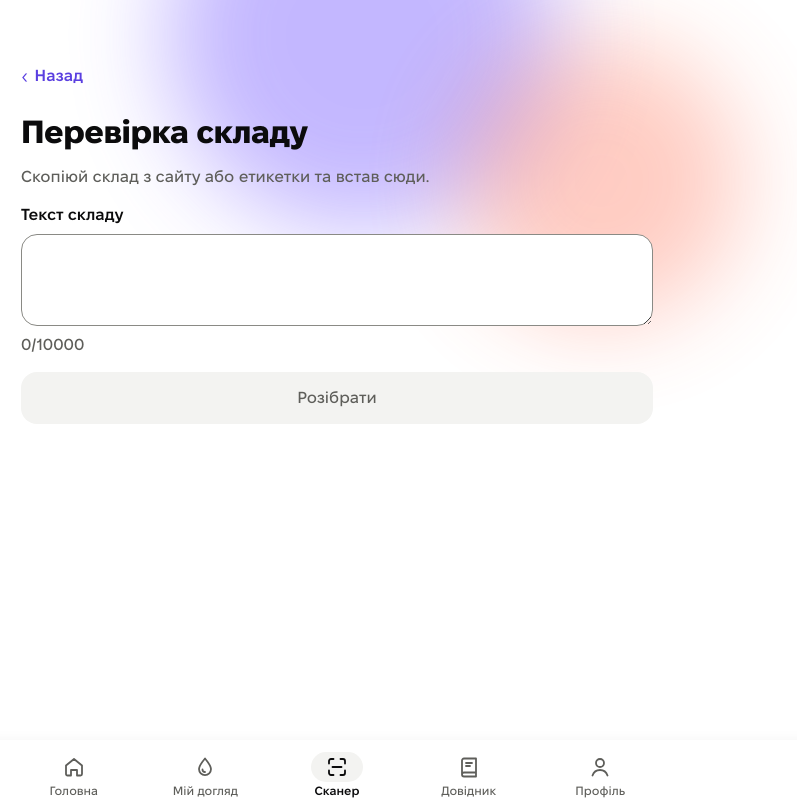
Test: from the reading to the check › a pasted text has no brand field, no notice about a photo and no tick
The image size is (797, 810).
Type "Aqua, Glycerin" into the text box labelled "Текст складу" at (337, 280), box [21, 234, 653, 326]
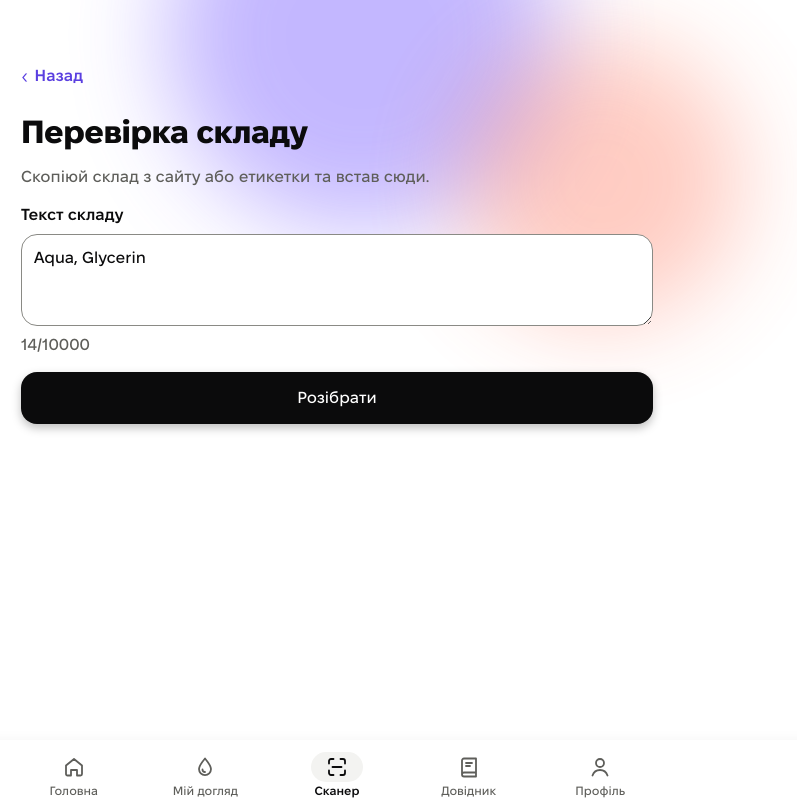
Click the button "Розібрати" at (337, 398), box [21, 372, 653, 424]
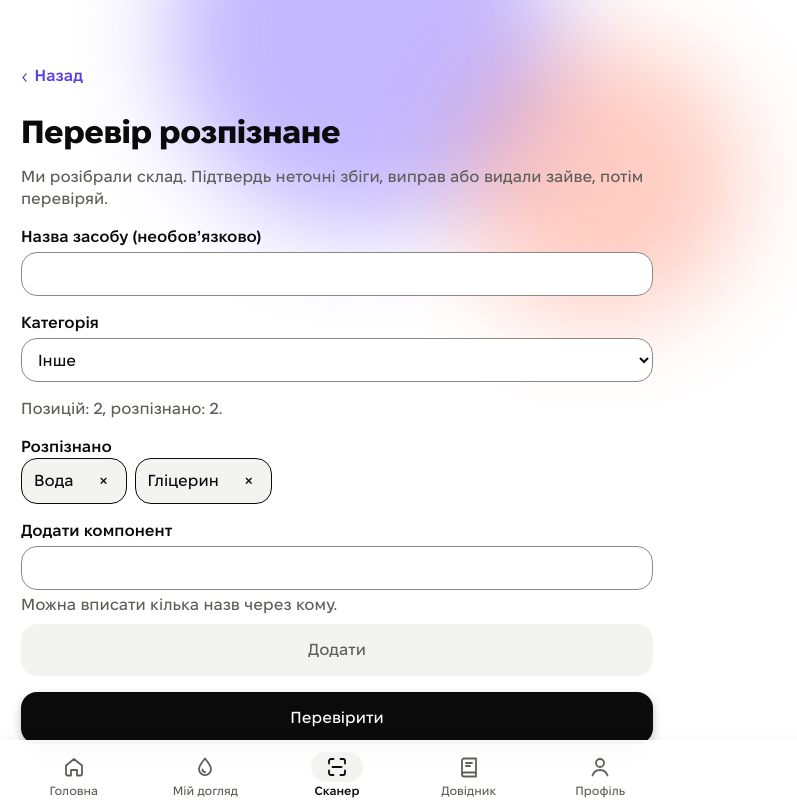
Check: the heading "Перевір розпізнане" is shown, box [21, 114, 340, 149]
